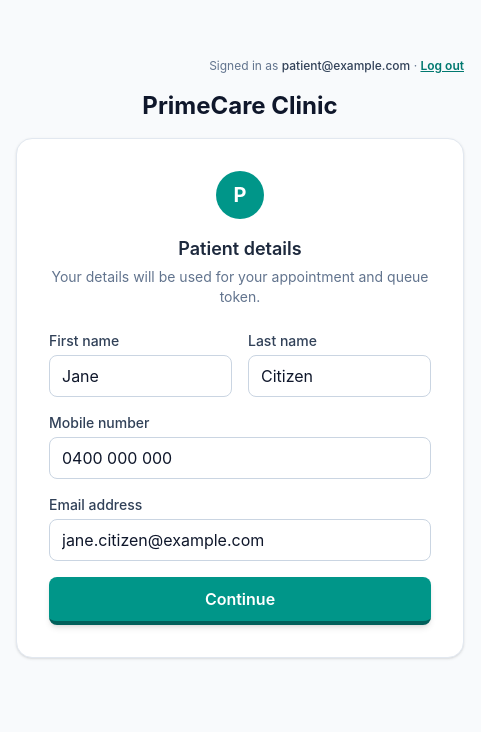
Test: PatientDetails › shows server field errors under the matching inputs
Click the button "Continue" at (240, 601), box left=49, top=577, right=431, bottom=625
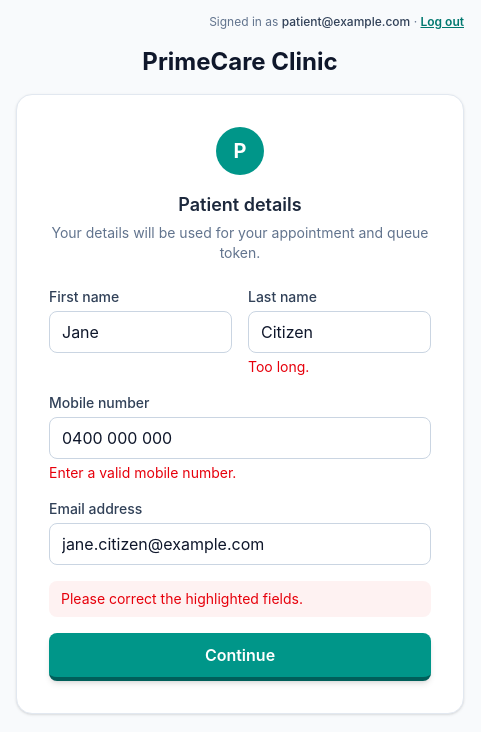
Now the text "Enter a valid mobile number." is shown, box left=49, top=464, right=236, bottom=481
Now the text "Too long." is shown, box left=248, top=358, right=309, bottom=375
Now the message reads "Please correct the highlighted fields.", box left=61, top=590, right=303, bottom=607
